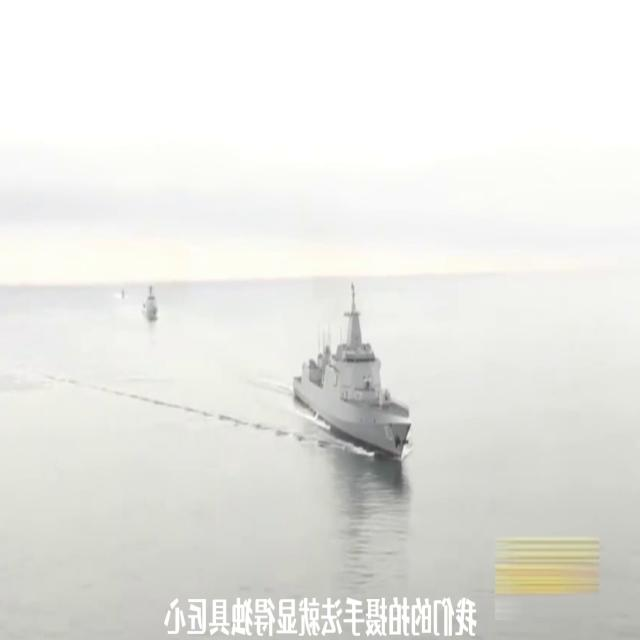navalvessels: (292, 280, 416, 454), (141, 281, 159, 321)
